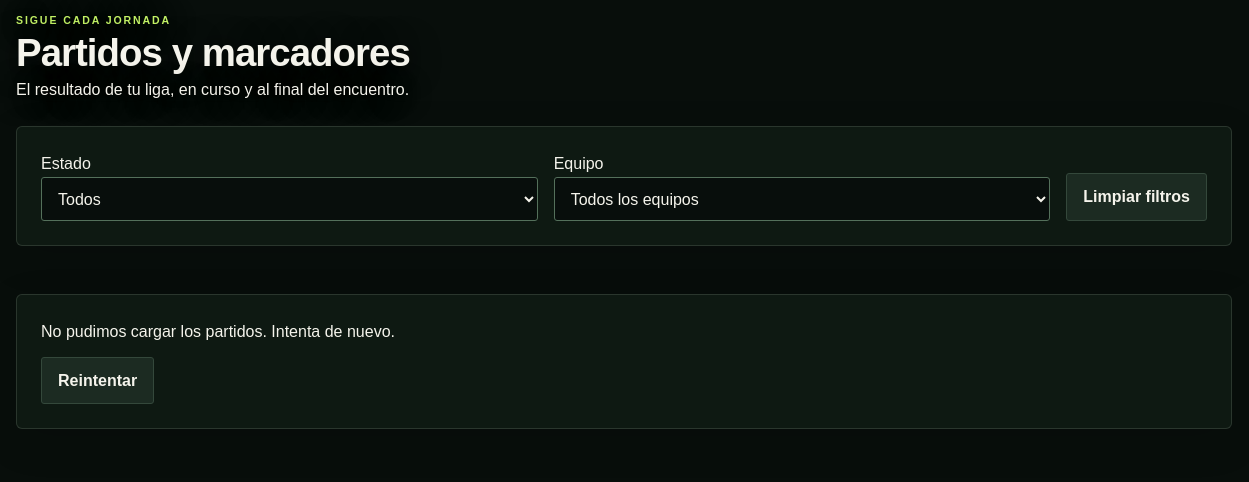
Test: distingue vacío y error recuperable
The image size is (1249, 482).
Expected: the text "No pudimos cargar los partidos. Intenta de nuevo." is shown, [41,319,395,345]
Click the button "Reintentar": (98, 380) [41,357,154,404]
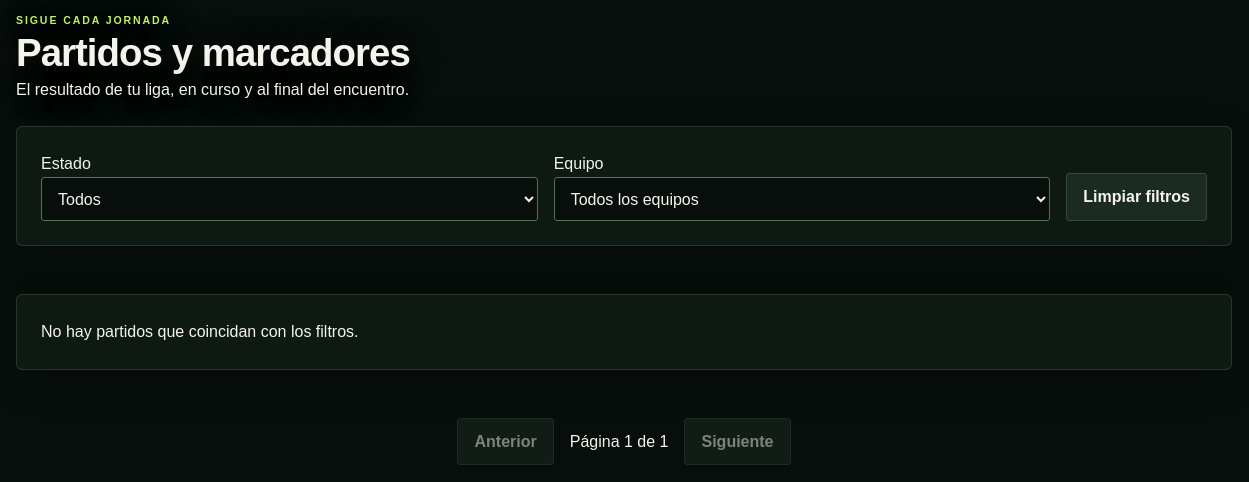
Now the text "No hay partidos que coincidan con los filtros." is shown, box [16,294,1232,370]
